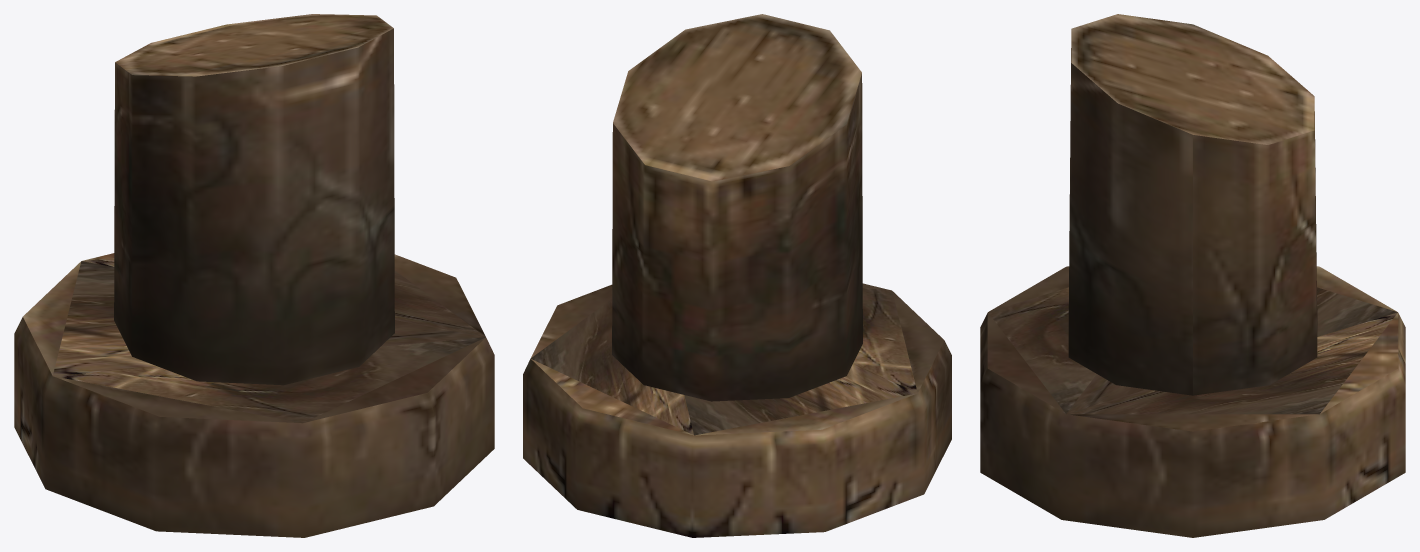
3 views of the same model, side by side, from view 1: azimuth 30°, elevation 25°; view 2: azimuth 150°, elevation 25°; view 3: azimuth 270°, elevation 25° (orthographic). The views are drawn at different scales.
Visible parts, largest first — view 1: wj07; view 2: wj07; view 3: wj07.
Part boxes in pixels (bbox=[...]): wj07: bbox=[14, 14, 494, 537]; wj07: bbox=[523, 14, 951, 537]; wj07: bbox=[980, 14, 1405, 537].
Size of the model in its own units: 169 by 166 by 161.
